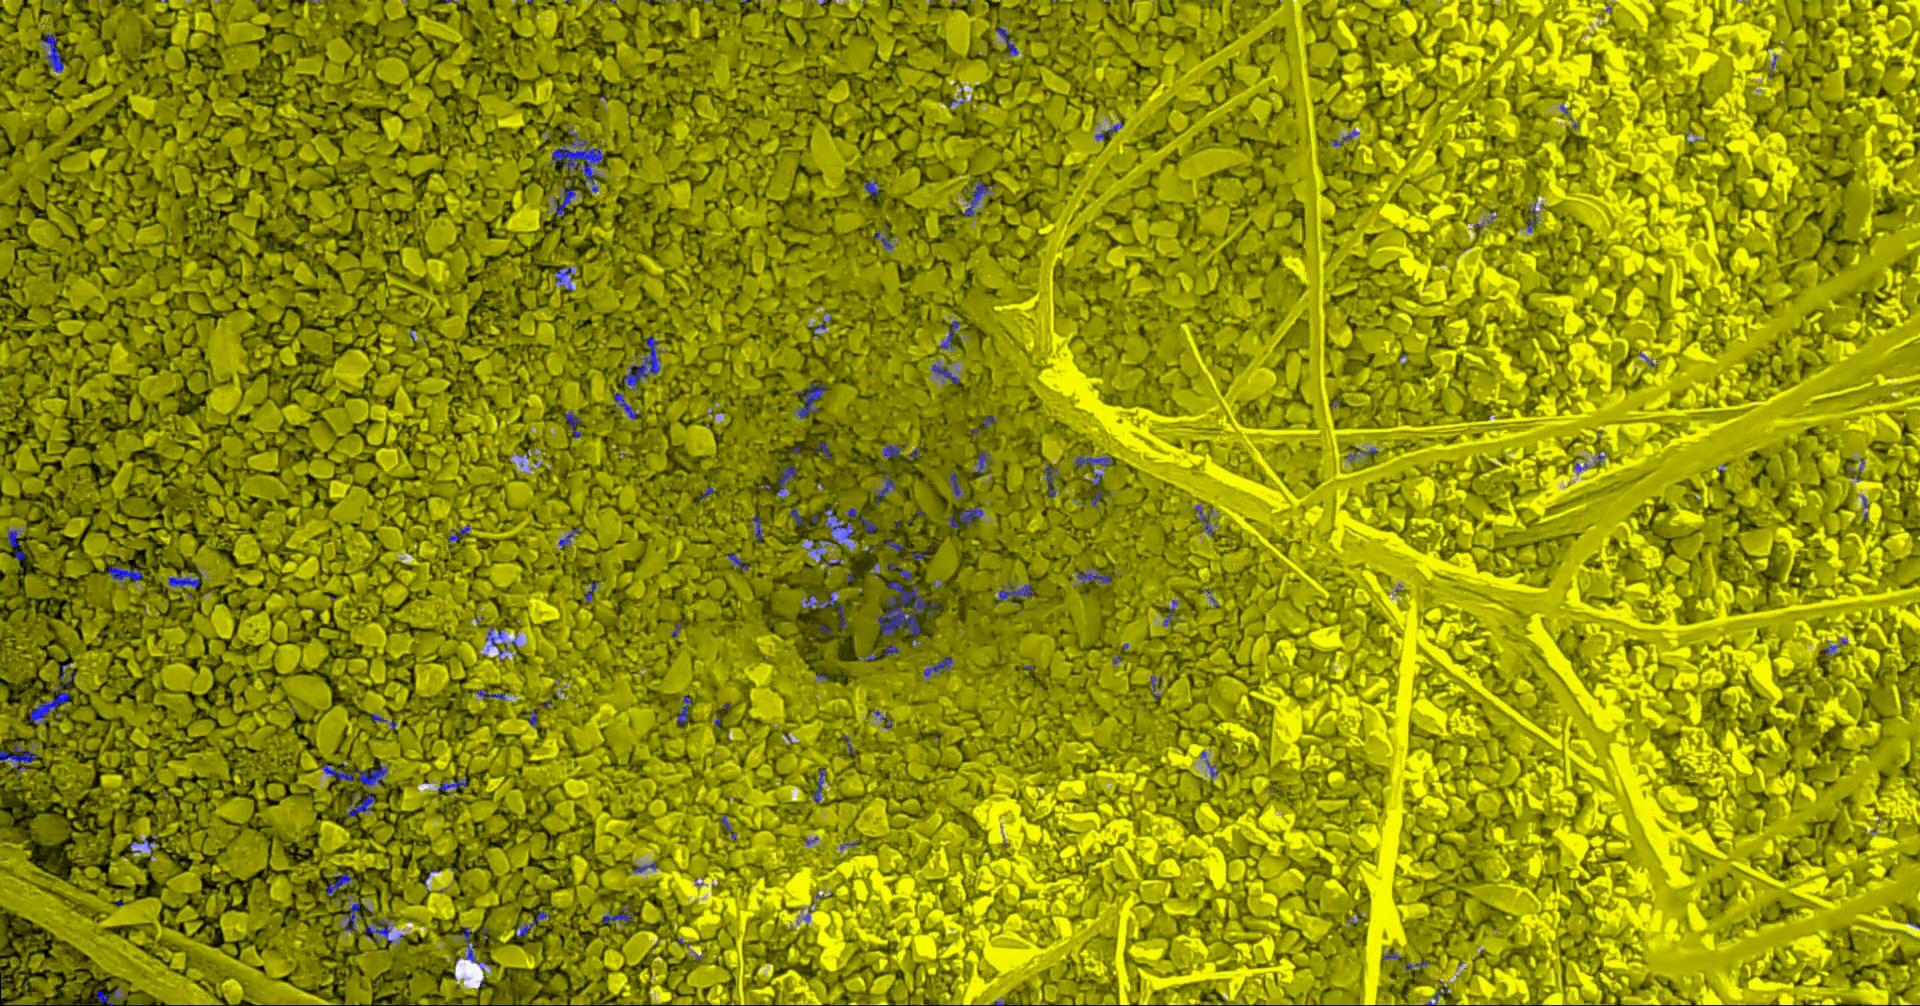ant: (551, 127, 603, 191), (29, 669, 74, 725), (789, 508, 857, 539), (623, 337, 660, 387), (804, 589, 846, 629), (458, 927, 488, 969), (795, 381, 825, 418), (0, 743, 37, 774), (963, 180, 988, 216), (41, 33, 63, 71), (514, 911, 549, 936), (552, 180, 575, 216), (343, 791, 375, 817), (847, 507, 876, 533), (872, 473, 895, 504), (356, 765, 387, 788), (612, 390, 636, 419), (776, 465, 796, 498), (363, 918, 392, 941), (998, 580, 1032, 600), (1095, 116, 1123, 138), (599, 904, 632, 923), (325, 871, 350, 895), (130, 836, 156, 859), (996, 27, 1017, 55), (938, 320, 959, 349), (321, 763, 354, 781), (1194, 504, 1213, 535), (923, 655, 951, 676), (103, 567, 142, 580), (8, 528, 25, 559), (931, 365, 959, 384), (676, 695, 692, 727), (343, 901, 361, 930), (959, 506, 982, 527), (552, 267, 573, 291), (557, 527, 578, 550), (1043, 464, 1057, 497), (1077, 569, 1110, 583), (564, 412, 582, 437), (168, 575, 199, 589), (1332, 130, 1359, 146), (747, 514, 763, 541), (94, 988, 121, 1005), (447, 525, 469, 545), (1074, 456, 1112, 467), (813, 767, 825, 801), (1090, 469, 1101, 506), (886, 563, 912, 579), (726, 551, 748, 570), (437, 777, 466, 791), (1162, 600, 1176, 625), (872, 231, 891, 249), (721, 815, 735, 840), (485, 627, 503, 645), (881, 443, 902, 459), (1524, 208, 1537, 232), (583, 580, 597, 602), (475, 688, 504, 699), (977, 450, 987, 478), (632, 861, 657, 873), (815, 441, 830, 459), (949, 473, 960, 495), (863, 179, 877, 197), (884, 539, 903, 551), (883, 641, 898, 657), (528, 708, 537, 727)
